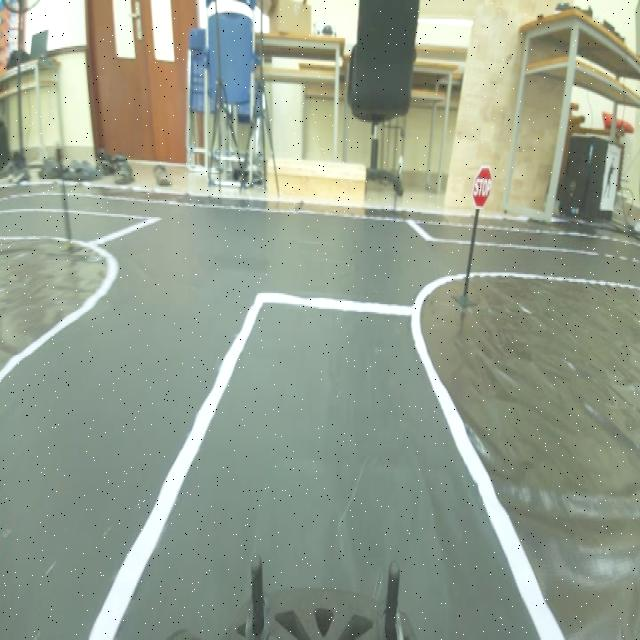stop: (470, 162, 496, 210)
